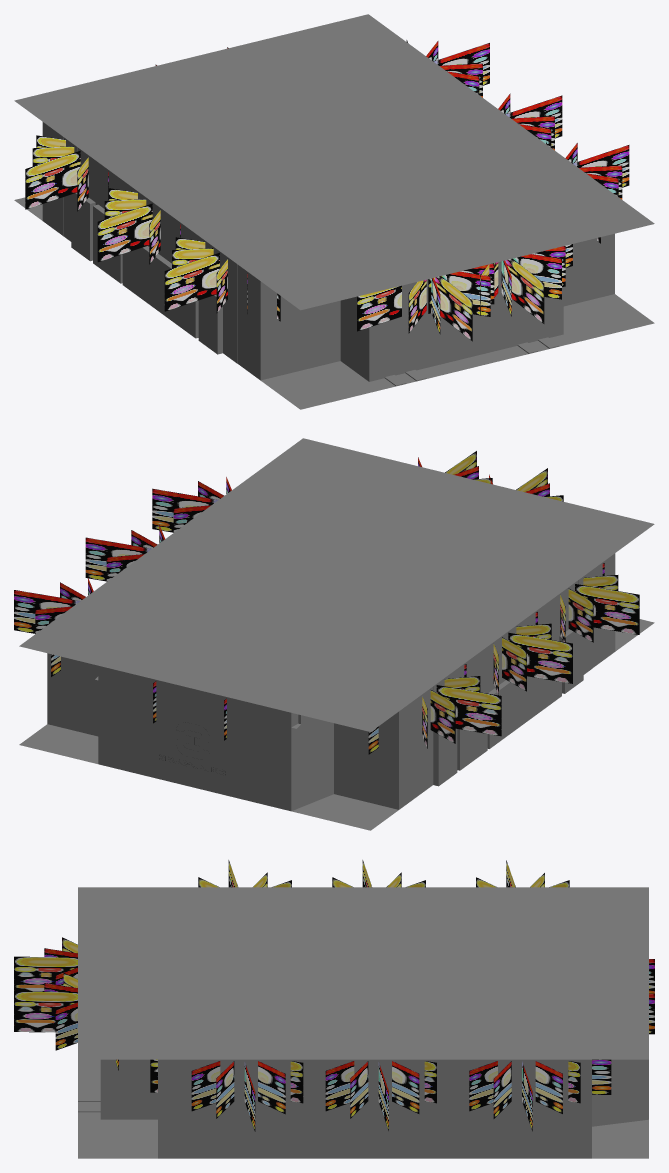
Rendered from CarShop.FBX.
The picture shows the model from 3 angles, top to bottom: view 1: azimuth 30°, elevation 25°; view 2: azimuth 150°, elevation 25°; view 3: azimuth 270°, elevation 25°; orthographic projection.
Parts seen in each view (by area): view 1: Object014, Object001, Plane038, Object035, Plane057, Object042, Plane058, Plane063, Plane064, Plane065, Plane067, Plane068 (+3 smaller); view 2: Object014, Object001, Object042, Plane038, Plane065, Plane063, Plane064, Plane066, Plane068, Plane067, Plane057, Plane058; view 3: Object014, Object002, Plane038, Object001, Plane066, Plane067, Plane068, Plane058, Plane057, Plane063, Plane064, Plane065.
Boxes of the visible parts, <box> form: Object014: <box>14,14,654,310</box>; Object001: <box>42,122,614,381</box>; Plane038: <box>14,197,654,409</box>; Object035: <box>382,278,550,378</box>; Plane057: <box>357,263,494,341</box>; Object042: <box>71,193,217,354</box>; Plane058: <box>428,244,572,323</box>; Plane063: <box>164,237,280,321</box>; Plane064: <box>97,188,180,264</box>; Plane065: <box>25,135,108,211</box>; Plane067: <box>546,142,629,243</box>; Plane068: <box>479,93,562,150</box>; Object014: <box>19,438,654,731</box>; Object001: <box>47,553,615,811</box>; Object042: <box>438,631,583,785</box>; Plane038: <box>19,619,654,830</box>; Plane065: <box>368,664,501,754</box>; Plane063: <box>560,563,639,642</box>; Plane064: <box>493,612,572,695</box>; Plane066: <box>14,578,93,676</box>; Plane068: <box>85,525,164,581</box>; Plane067: <box>152,477,231,532</box>; Plane057: <box>489,468,563,501</box>; Plane058: <box>418,451,492,483</box>; Object014: <box>78,887,648,1059</box>; Object002: <box>158,1059,591,1158</box>; Plane038: <box>78,1059,648,1158</box>; Object001: <box>100,1059,648,1126</box>; Plane066: <box>469,1059,611,1131</box>; Plane067: <box>150,1059,303,1131</box>; Plane068: <box>325,1061,436,1130</box>; Plane058: <box>14,972,118,1070</box>; Plane057: <box>14,937,77,991</box>; Plane063: <box>198,860,291,887</box>; Plane064: <box>332,860,425,887</box>; Plane065: <box>476,860,569,887</box>.
Size of the model in its own units: 53.82 by 10.7 by 62.74.
